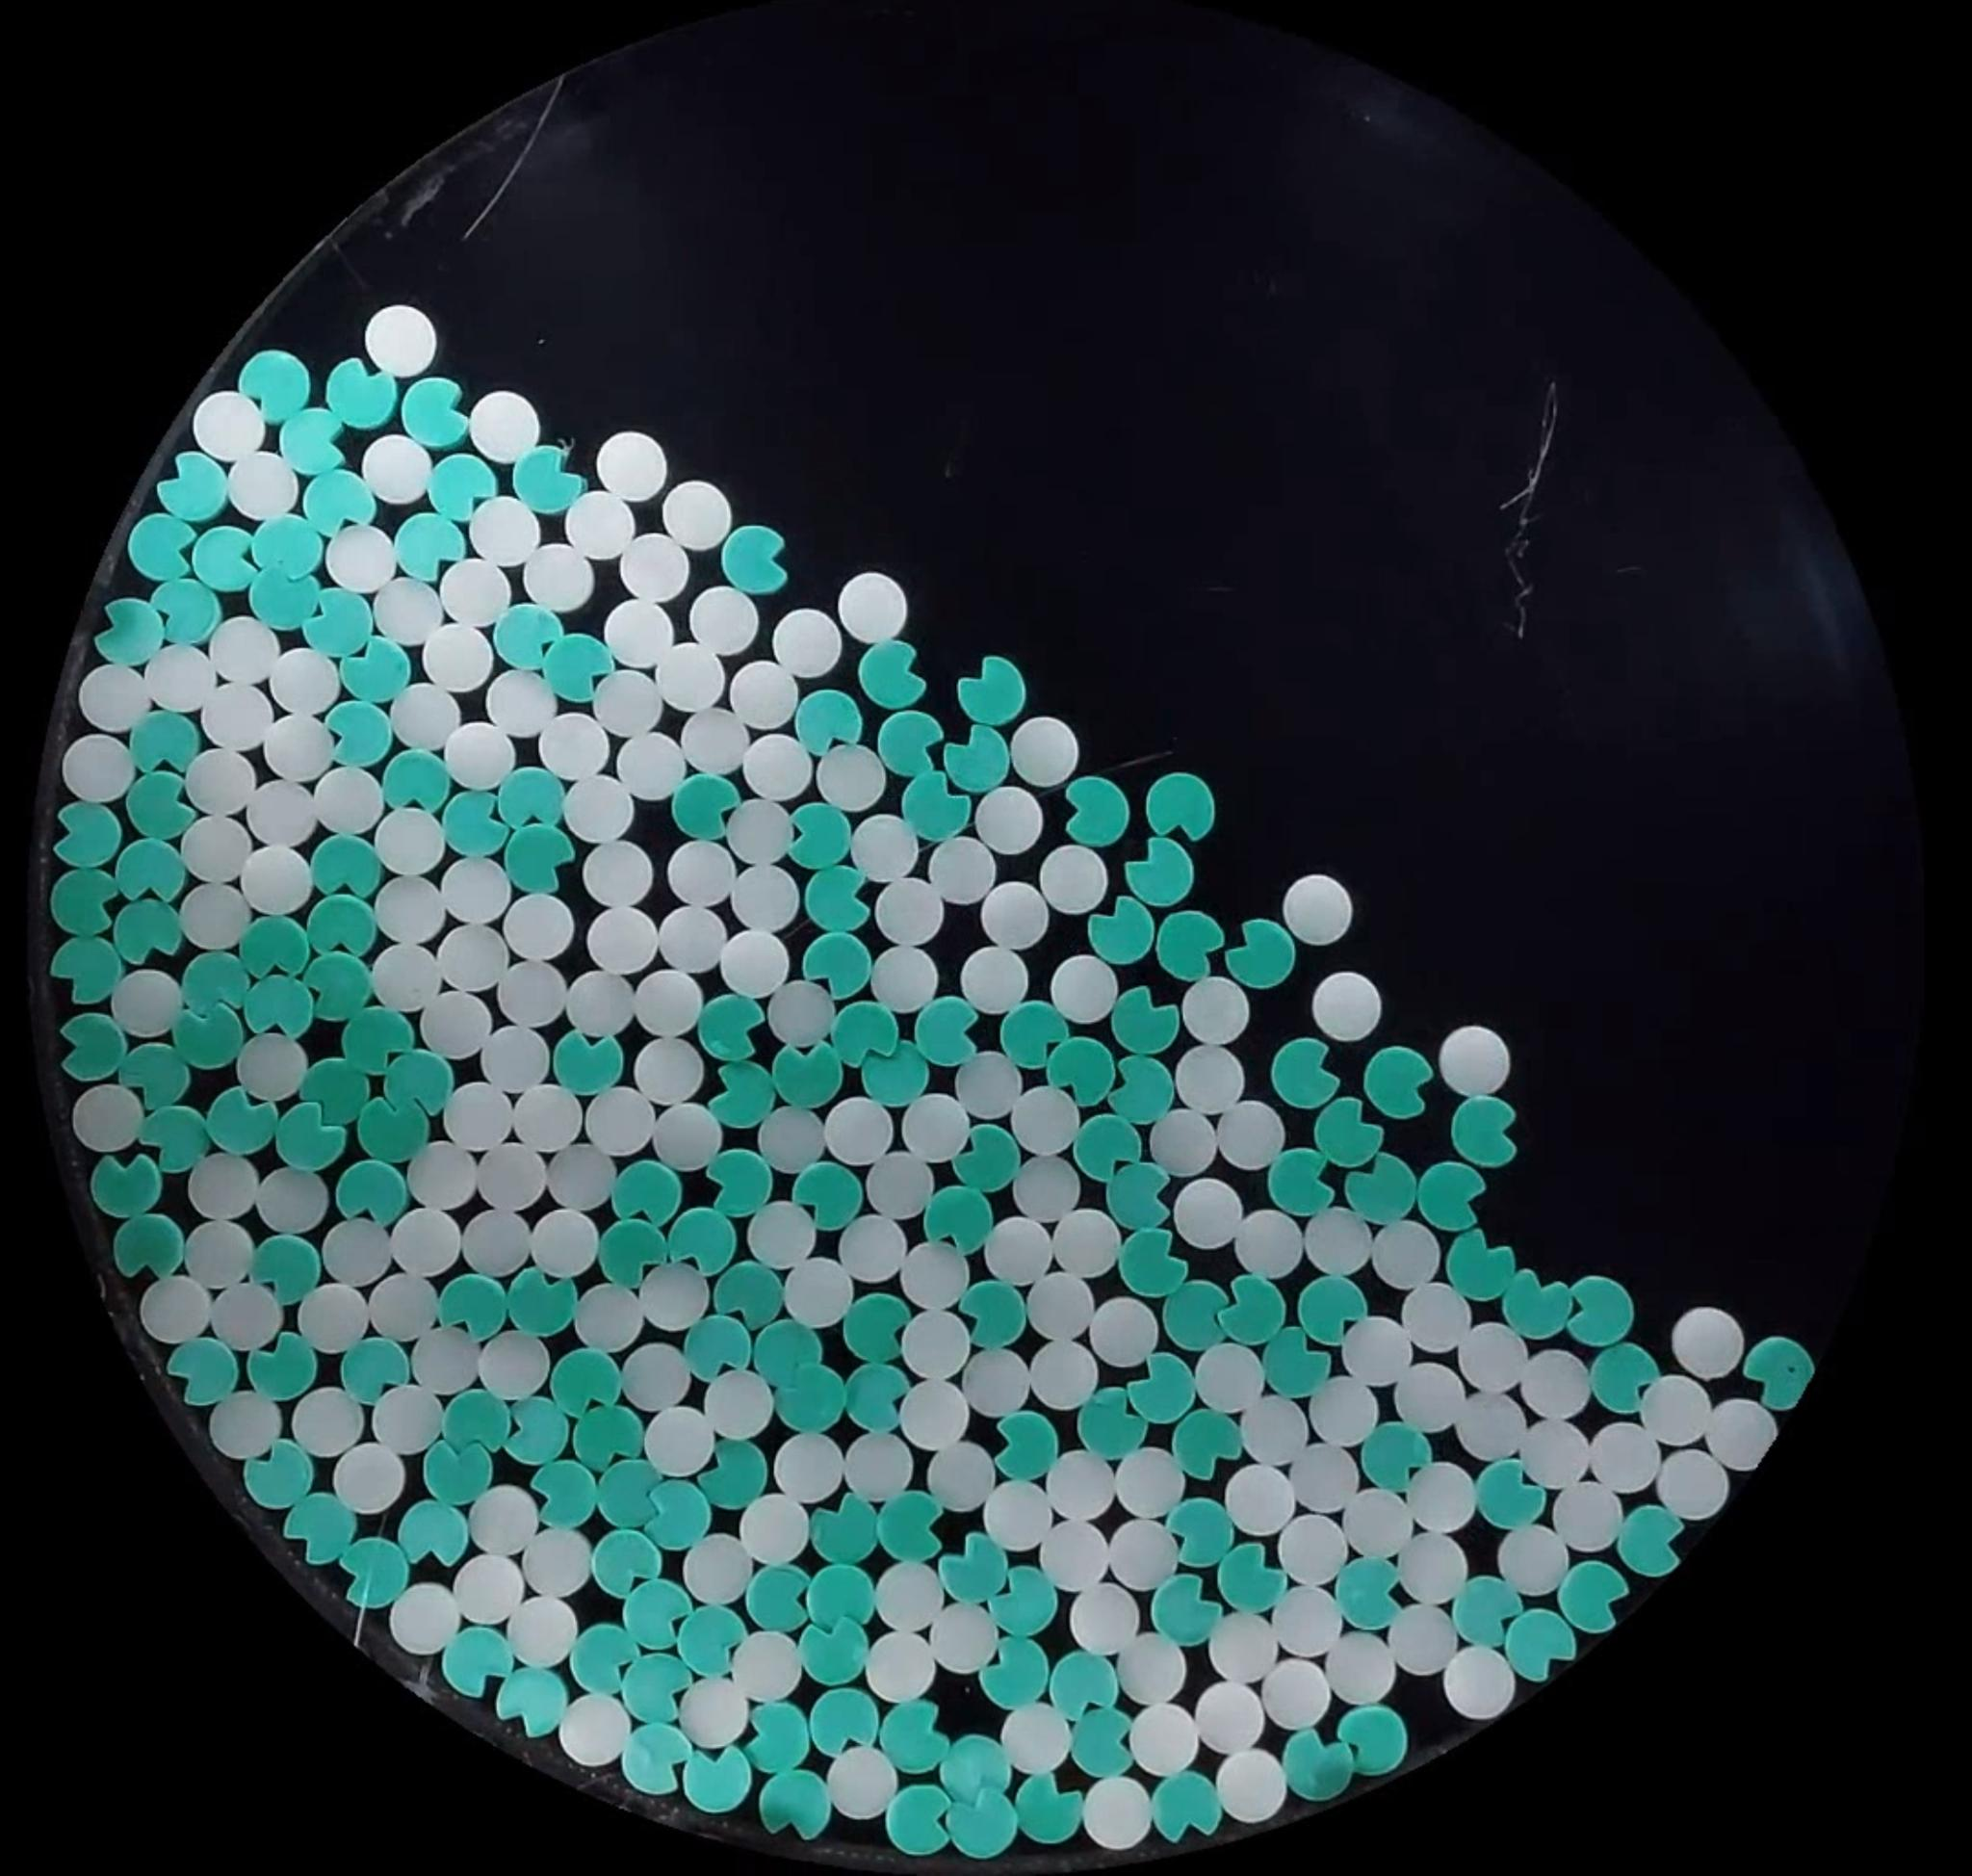no-convexa1: (493, 1263, 581, 1346), (1579, 1339, 1666, 1418), (940, 1783, 1028, 1860), (275, 1492, 359, 1571), (317, 698, 403, 775), (953, 1275, 1030, 1360), (160, 1333, 241, 1413), (659, 1201, 739, 1281), (85, 1145, 167, 1222), (870, 1490, 954, 1566), (1479, 1451, 1555, 1536), (243, 1233, 329, 1307), (1500, 1259, 1574, 1346), (1741, 1332, 1815, 1418), (232, 345, 313, 423), (144, 569, 225, 646), (842, 1286, 919, 1367), (921, 1178, 1002, 1256), (1361, 1045, 1439, 1126), (1336, 1705, 1417, 1783), (320, 358, 403, 433), (114, 1038, 197, 1113), (1504, 1599, 1578, 1684), (335, 1157, 414, 1235), (1611, 1503, 1685, 1585), (717, 527, 801, 599), (1264, 1039, 1349, 1112), (1062, 1698, 1139, 1776), (1173, 1404, 1250, 1481), (607, 1156, 687, 1231), (801, 1492, 880, 1568), (1329, 1557, 1409, 1633), (741, 1316, 822, 1390), (166, 1004, 248, 1076), (1144, 763, 1217, 846), (1340, 1150, 1423, 1222), (127, 506, 202, 583), (357, 1087, 433, 1164), (1211, 1531, 1287, 1608), (268, 1101, 342, 1180), (1111, 985, 1190, 1059), (930, 1534, 1011, 1606), (975, 1561, 1056, 1633), (1564, 1270, 1636, 1351), (938, 1733, 1021, 1804), (678, 1740, 754, 1816), (616, 1723, 692, 1798), (1442, 1226, 1518, 1302), (1146, 1769, 1220, 1846), (769, 1363, 849, 1436), (620, 1578, 699, 1651), (440, 1626, 521, 1696), (1217, 1265, 1282, 1351), (398, 373, 472, 449), (298, 951, 373, 1025), (114, 900, 190, 974), (706, 1057, 780, 1133), (988, 1407, 1062, 1483), (1280, 1725, 1356, 1798), (764, 1030, 842, 1103), (1296, 1270, 1368, 1348), (528, 1453, 600, 1531), (204, 1089, 283, 1159), (504, 1400, 583, 1471), (801, 1566, 884, 1633), (810, 1682, 884, 1756), (570, 1622, 644, 1696), (537, 634, 613, 706), (252, 511, 327, 583), (305, 888, 377, 964), (674, 773, 750, 846), (998, 997, 1071, 1073), (243, 1441, 315, 1517), (53, 803, 130, 874), (1562, 1562, 1632, 1640), (379, 1050, 458, 1119), (296, 587, 370, 659), (338, 632, 410, 706), (956, 654, 1030, 726), (1120, 1224, 1192, 1298), (697, 1437, 771, 1510), (509, 440, 585, 511), (114, 1210, 185, 1286), (799, 930, 875, 1001), (629, 1652, 699, 1728), (292, 1062, 370, 1131), (840, 1355, 909, 1432), (1063, 772, 1130, 851), (551, 1348, 630, 1414), (338, 1344, 419, 1409), (377, 747, 451, 817), (241, 1328, 315, 1399), (873, 710, 944, 784), (1042, 1032, 1116, 1103), (1109, 1048, 1180, 1122), (338, 1540, 408, 1614), (1016, 1777, 1086, 1851), (1354, 1422, 1428, 1492), (192, 521, 268, 590), (60, 1009, 129, 1085), (1262, 1145, 1338, 1214), (576, 1404, 651, 1473), (394, 1501, 470, 1569), (798, 1619, 873, 1688), (549, 1027, 627, 1094), (1111, 1156, 1178, 1233), (745, 1566, 822, 1633), (340, 1008, 412, 1078), (857, 1034, 928, 1106), (1312, 1092, 1384, 1163), (593, 1457, 666, 1527), (676, 1605, 747, 1677), (1076, 1386, 1148, 1457), (981, 1636, 1051, 1709), (1169, 1497, 1241, 1568), (55, 932, 123, 1006), (595, 1215, 669, 1284), (757, 1769, 831, 1837), (1125, 1351, 1194, 1425), (1167, 1275, 1234, 1351), (123, 772, 194, 842), (505, 824, 578, 893), (187, 948, 259, 1016), (857, 639, 930, 708), (1079, 1108, 1146, 1182), (792, 1163, 866, 1230), (93, 588, 158, 664), (1423, 1161, 1488, 1237), (246, 567, 324, 631), (44, 867, 121, 930), (1090, 891, 1153, 969), (238, 916, 317, 978), (114, 838, 185, 907), (782, 801, 850, 872), (1159, 911, 1227, 981), (745, 1705, 815, 1774), (1152, 1569, 1220, 1640), (158, 454, 231, 521), (1125, 840, 1197, 907), (806, 858, 872, 932), (944, 1126, 1018, 1191), (641, 1483, 715, 1548), (595, 1529, 669, 1594), (1447, 1097, 1516, 1166), (438, 791, 509, 858), (701, 992, 768, 1062), (914, 995, 984, 1062), (713, 1263, 784, 1330), (898, 775, 970, 840), (1261, 1326, 1326, 1399), (893, 1783, 954, 1858), (495, 1668, 563, 1735), (275, 409, 345, 474), (305, 474, 375, 539), (248, 974, 319, 1039), (882, 1698, 946, 1770), (445, 1275, 507, 1349), (681, 1321, 755, 1383), (312, 837, 379, 904), (444, 1392, 511, 1459), (132, 710, 197, 779), (703, 1156, 771, 1221), (798, 687, 861, 757), (1229, 916, 1292, 986), (144, 1110, 210, 1177), (946, 726, 1011, 793), (835, 1004, 905, 1066), (400, 511, 463, 578), (498, 604, 562, 671), (1053, 1651, 1115, 1719), (421, 1444, 491, 1504), (495, 768, 567, 826), (428, 456, 493, 518), (1454, 1573, 1511, 1643)
